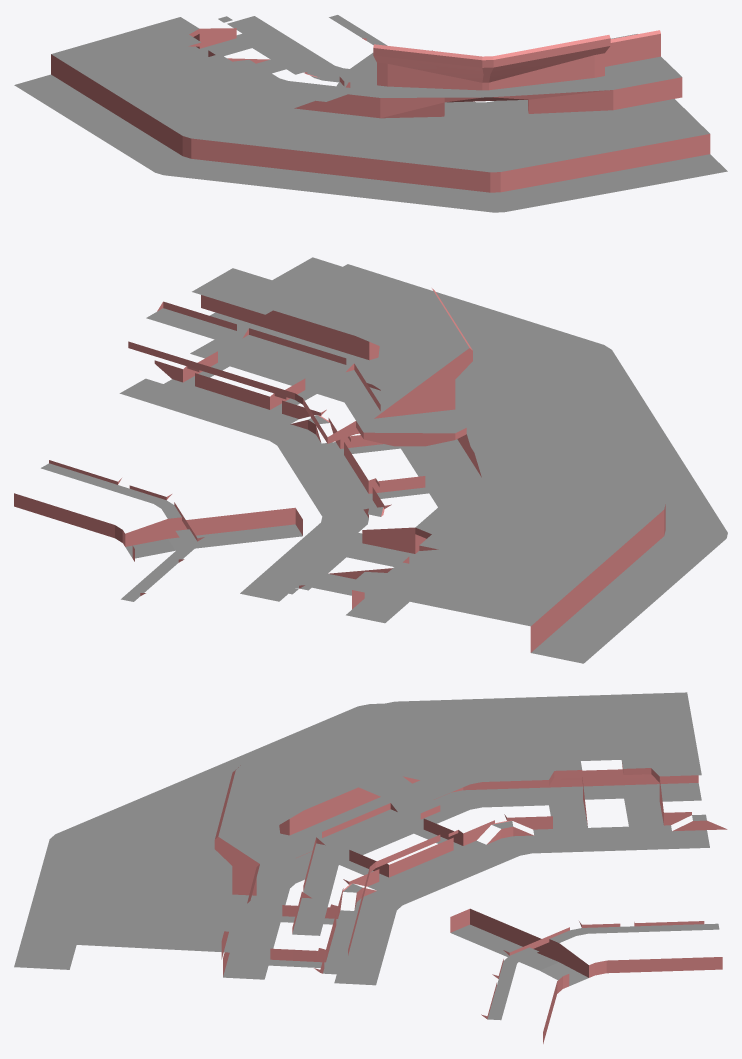
The picture shows the model from 3 angles, top to bottom: view 1: azimuth 30°, elevation 25°; view 2: azimuth 150°, elevation 25°; view 3: azimuth 270°, elevation 25°; orthographic projection. The views are drawn at different scales.
Visible parts, largest first — view 1: Base_07; view 2: Base_07; view 3: Base_07.
Boxes of the visible parts, box(x1,y1,x2,y2) form: Base_07: box(14, 15, 727, 212); Base_07: box(14, 257, 727, 663); Base_07: box(14, 692, 727, 1043).
Size of the model in its own units: 129 by 32 by 130.
